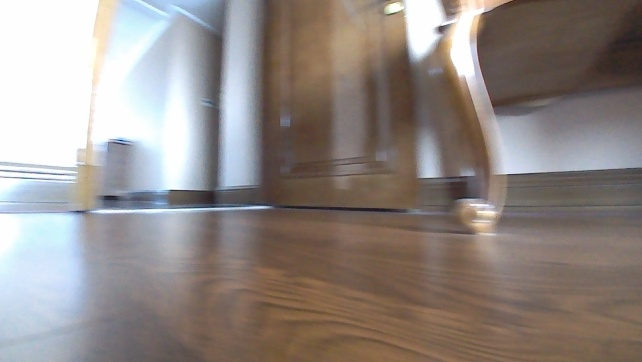door_anno: (258, 0, 428, 217)
